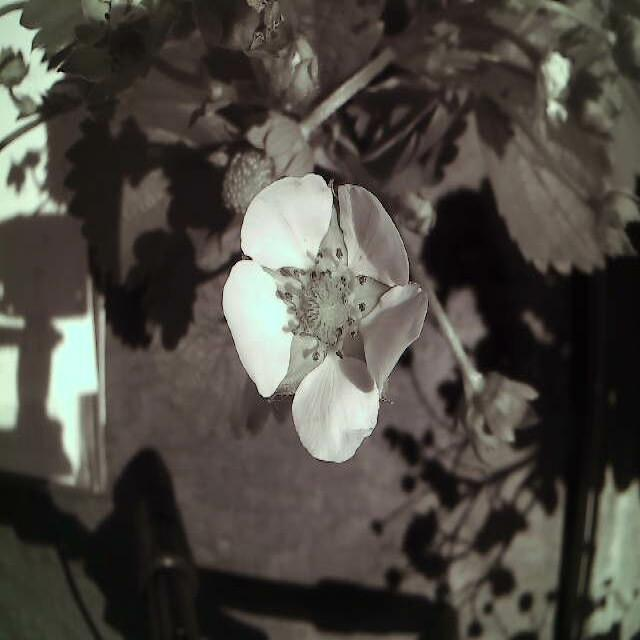flower: (224, 166, 447, 476)
